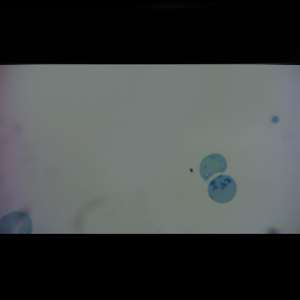aggregate reticulocyte: (206, 173, 238, 204)
punctate reticulocyte: (198, 152, 229, 182)
